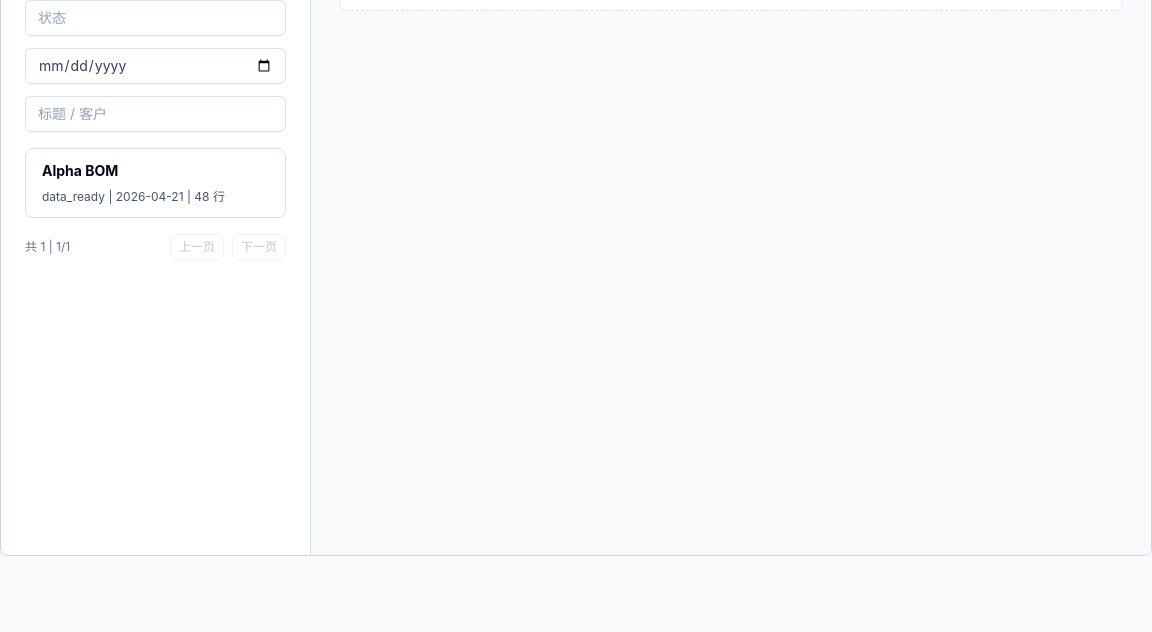
Test: BomWorkbenchPage › opens the match result workspace once the selected session is data_ready
Click the button "Alpha BOM data_ready | 2026-04-21 | 48 行" at point(80, 170), box x1=25 y1=148 x2=286 y2=218
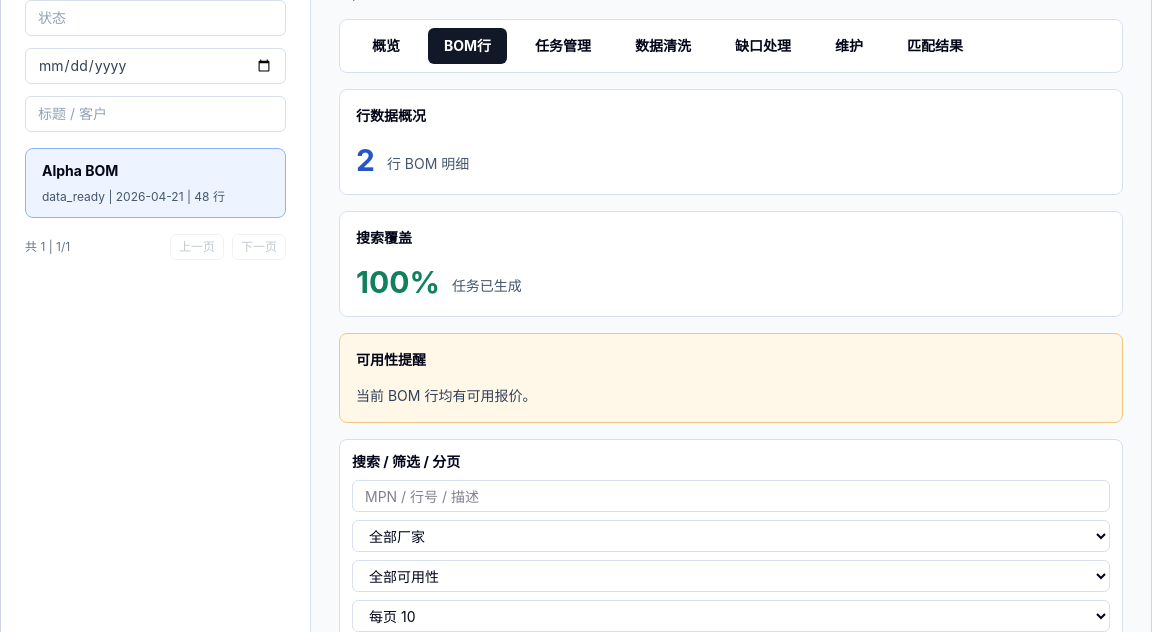
Click the tab "匹配结果" at point(935, 46), box x1=891 y1=28 x2=979 y2=64
(page scrolled)
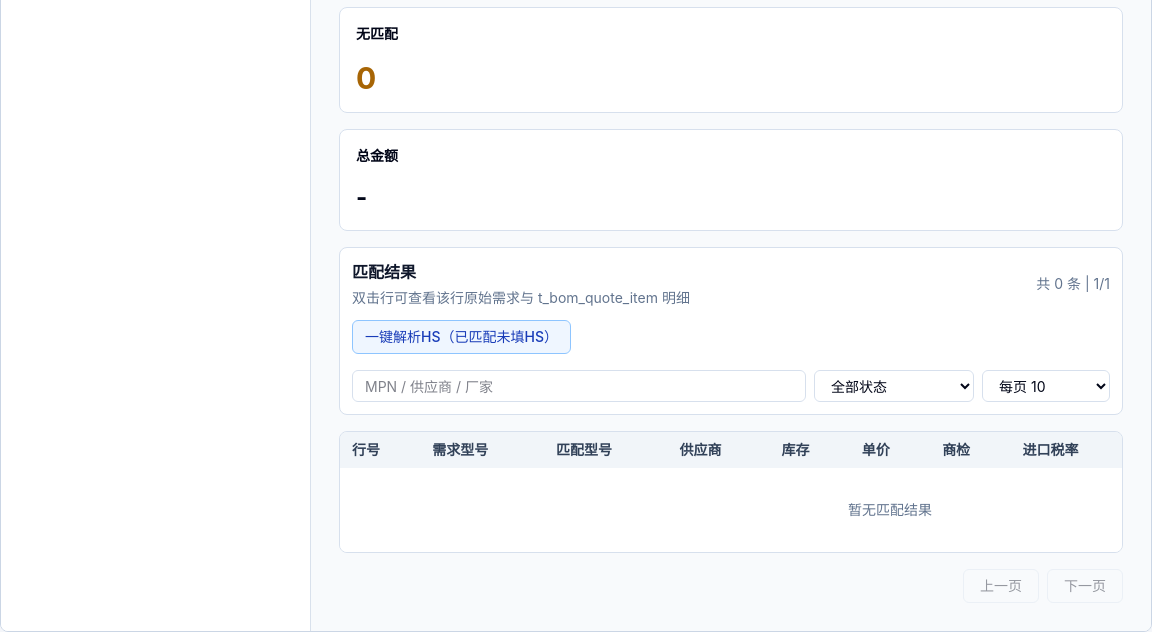
Now the field with placeholder "MPN / 供应商 / 厂家" is shown, box x1=352 y1=370 x2=806 y2=402
